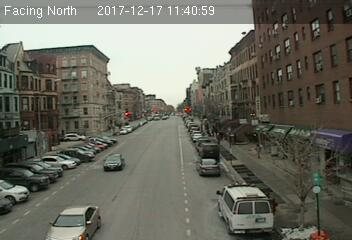car: (196, 158, 222, 180), (103, 152, 126, 172), (198, 142, 219, 157)
police: (217, 180, 276, 236)
